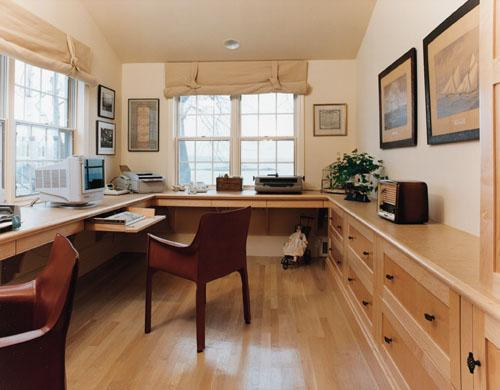Ventana: (174, 87, 304, 186), (11, 53, 80, 197)
